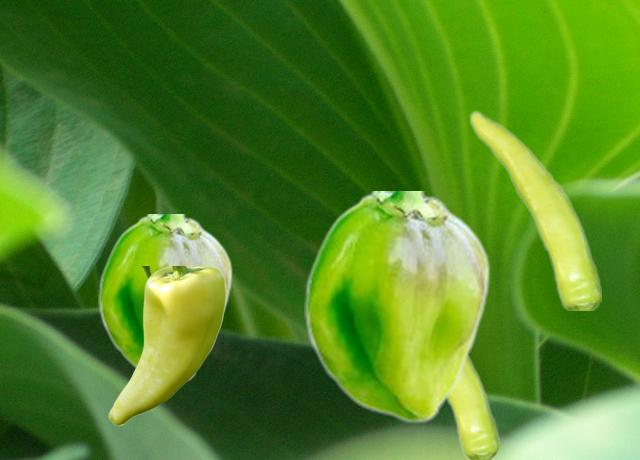green_chili: (304, 191, 490, 423), (469, 109, 600, 309), (98, 214, 232, 382), (108, 266, 225, 425), (446, 356, 498, 458)
